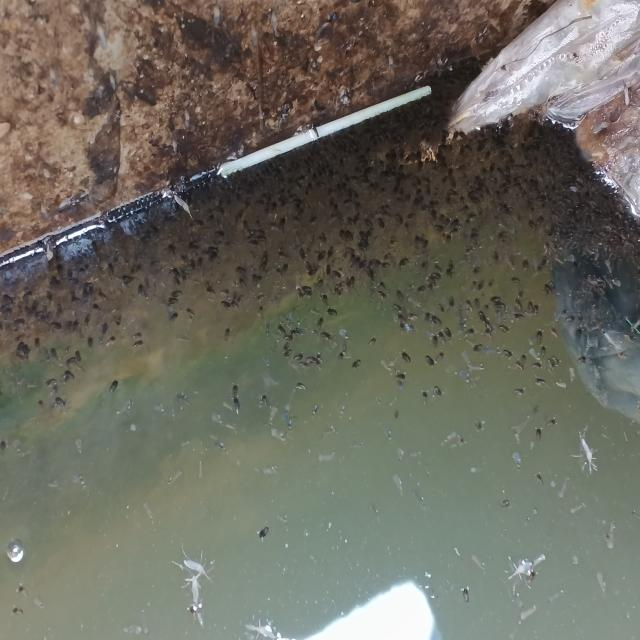Breeding Place: (0, 105, 640, 640)
